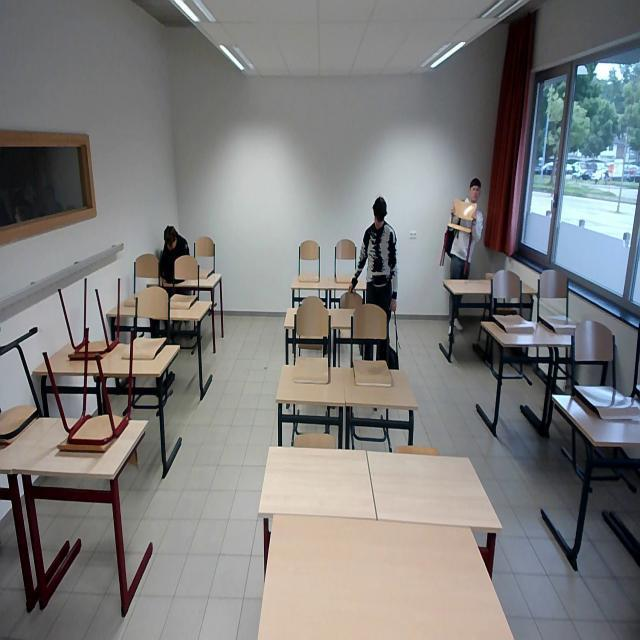Phone use: (154, 224, 191, 278)
